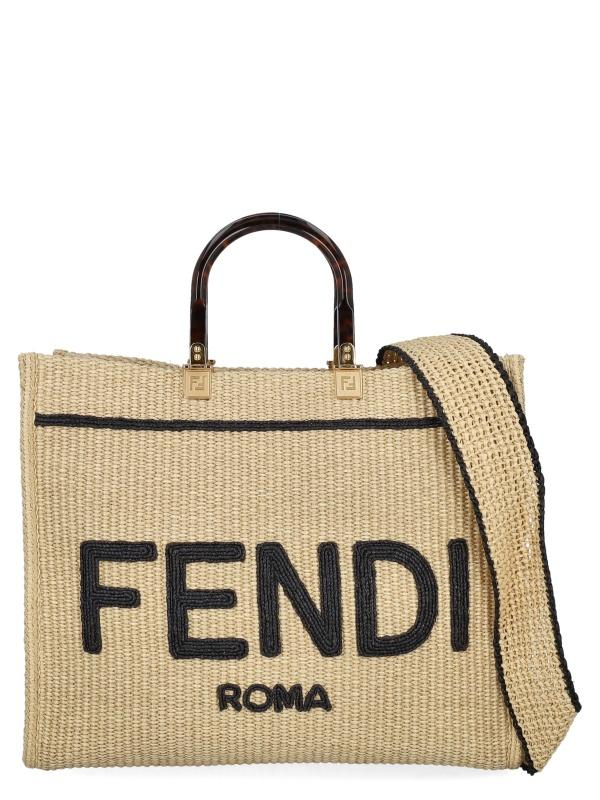FENDI: (79, 537, 469, 660)
